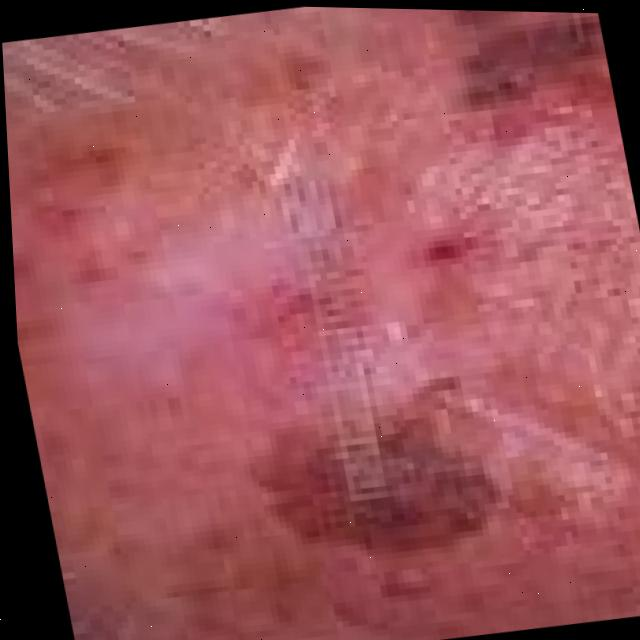Melasma: (263, 381, 519, 634), (451, 10, 624, 222)
